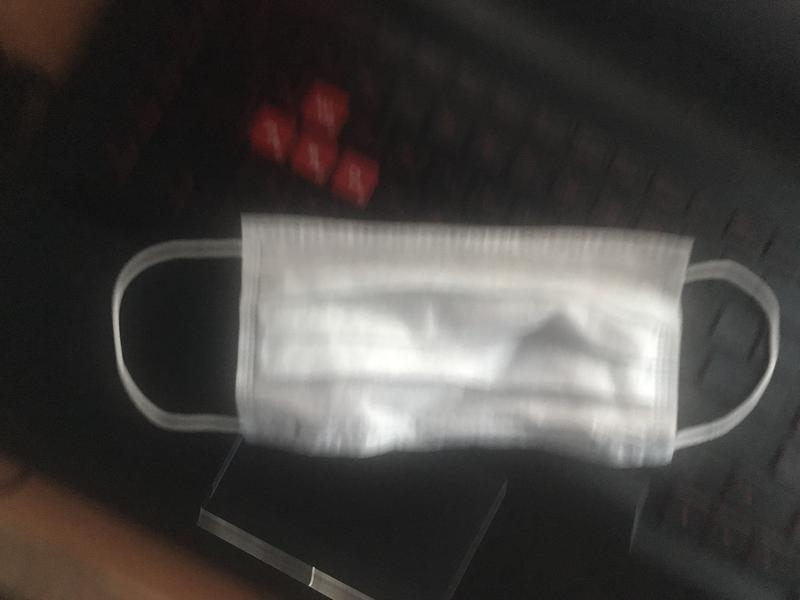medical_mask: (114, 214, 780, 468)
